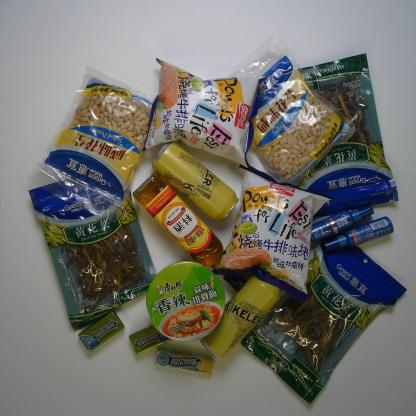Alcohol: (200, 272, 285, 360), (148, 141, 240, 221)
Candy: (154, 350, 215, 376)
Dried Food: (240, 244, 408, 404), (27, 178, 158, 332), (299, 52, 401, 218)
Dried Fruit: (232, 32, 356, 188), (35, 67, 154, 198)
Gum: (78, 310, 125, 352), (128, 324, 172, 356)
Instant Noodles: (144, 260, 227, 342)
Personal Hygiene: (309, 204, 374, 246), (323, 217, 394, 253)
Puffed Food: (211, 162, 330, 298), (140, 56, 258, 169)
Seasoner: (129, 171, 248, 292)
